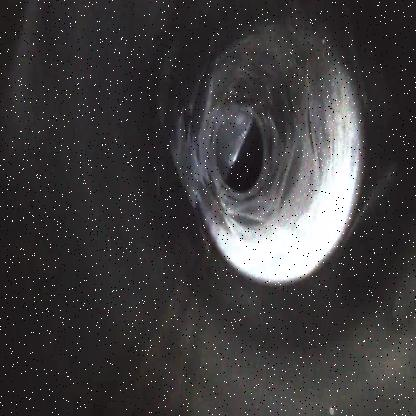Crack: (169, 17, 360, 283)
